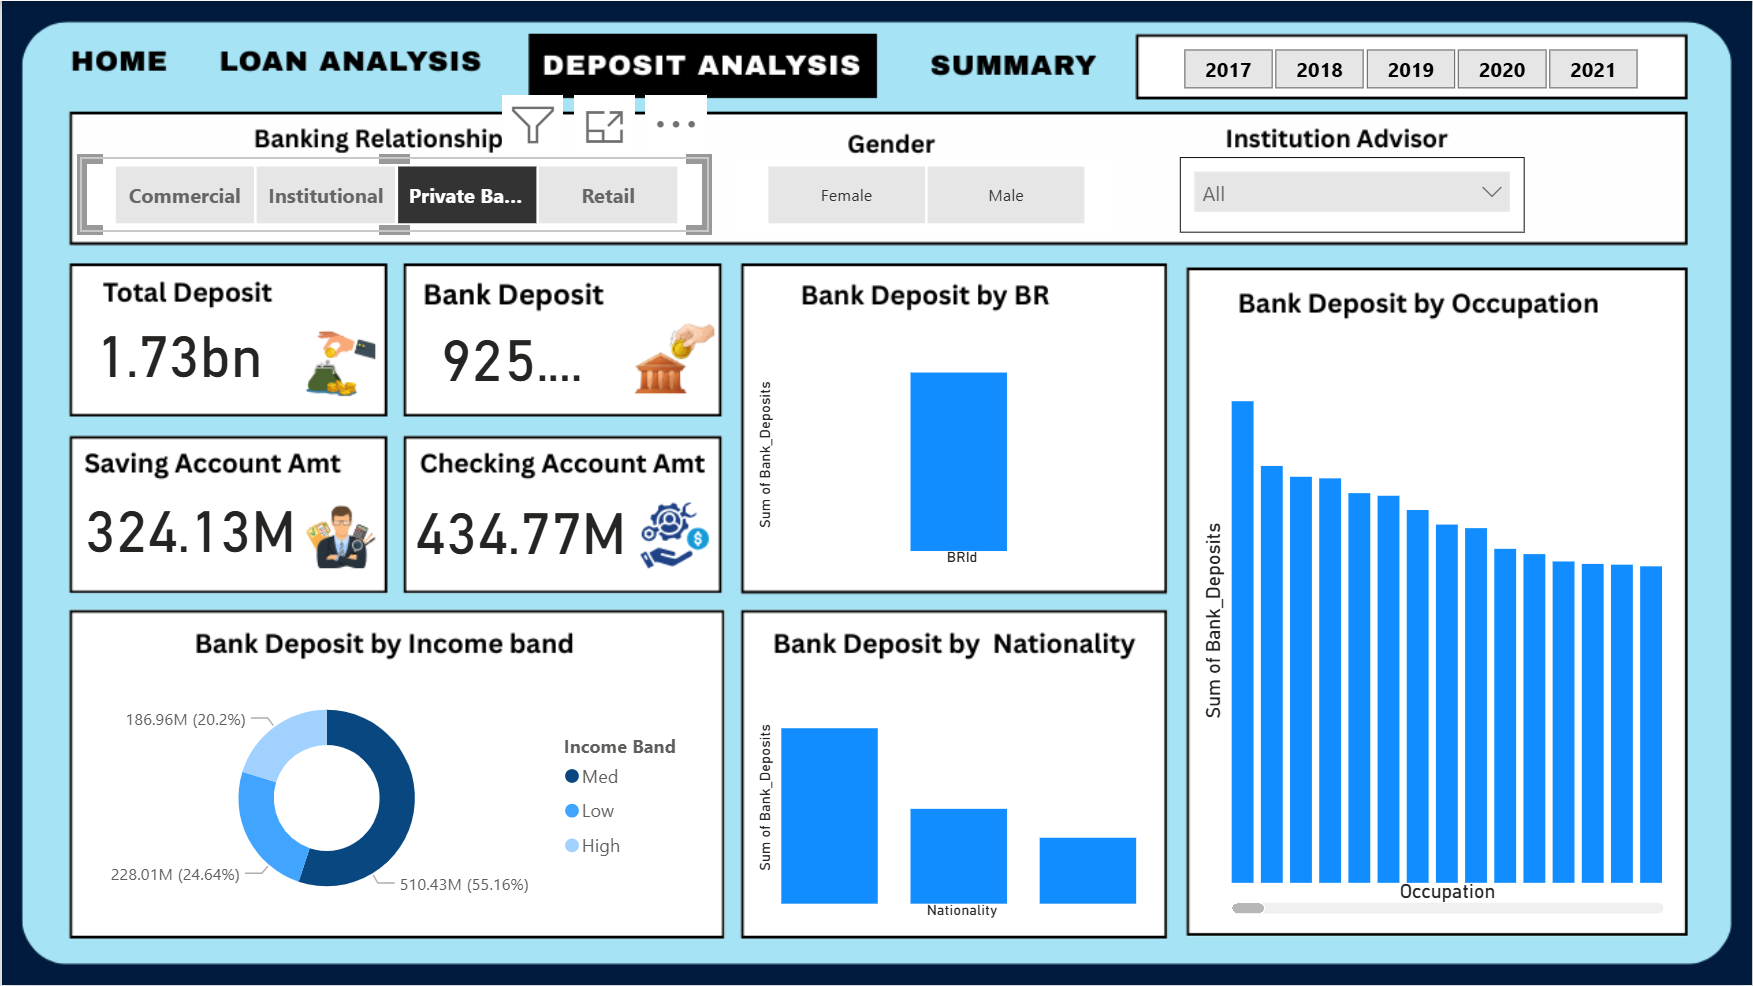

What the dashboard file says about the page in this screenshot:
{"tool":"powerbi","page":{"name":"Deposit Analysis","canvas":[1280,720],"ordinal":2},"visuals":[{"type":"slicer","fields":{"Values":["Banking1.Joined_Bank.Variation.Date Hierarchy.Year"]},"box":[838.8,27.7,381.8,35.7],"z":0},{"type":"actionButton","box":[34.3,22.5,100.4,38.3],"z":1000},{"type":"actionButton","box":[663.1,25.1,151.9,35.7],"z":3000},{"type":"card","fields":{"Values":["Banking1.Total Deposit"]},"box":[60.8,228.5,137.4,55.5],"z":4000},{"type":"card","fields":{"Values":["Sum(Banking1.Bank_Deposits)"]},"box":[305.1,229.8,136.1,56.8],"z":5000},{"type":"card","fields":{"Values":["Sum(Banking1.Saving_Accounts)"]},"box":[55.5,355.3,165.1,55.5],"z":6000},{"type":"card","fields":{"Values":["Sum(Banking1.Checking_Accounts)"]},"box":[297.2,356.7,165.1,55.5],"z":7000},{"type":"donutChart","fields":{"Category":["Banking1.Income Band"],"Y":["Sum(Banking1.Bank_Deposits)"]},"box":[59.4,494,457,177],"z":8000},{"type":"clusteredColumnChart","fields":{"Category":["Banking1.BRId"],"Y":["Sum(Banking1.Bank_Deposits)"]},"box":[546.9,247,291.9,170.4],"z":9000},{"type":"clusteredColumnChart","fields":{"Category":["Banking1.Nationality"],"Y":["Sum(Banking1.Bank_Deposits)"]},"box":[548.2,490.1,291.9,184.9],"z":10000},{"type":"clusteredColumnChart","fields":{"Category":["Banking1.Occupation"],"Y":["Sum(Banking1.Bank_Deposits)"]},"box":[873.1,247,347.4,425.3],"z":11000},{"type":"slicer","fields":{"Values":["Banking1.BRId"]},"box":[56.8,113.6,461,55.5],"z":12000},{"type":"slicer","fields":{"Values":["Banking1.GenderId"]},"box":[533.7,113.6,281.4,55.5],"z":13000},{"type":"slicer","fields":{"Values":["Banking1.IAId"]},"box":[861.3,113.6,252.3,55.5],"z":14000},{"type":"actionButton","box":[149.3,23.8,207.4,39.6],"z":15000}]}

Visuals, with their boxes in screenshot pixels (x1, y1, x2, y2), scaled from the page's 1280x720 canvas onto the 1753x986 screenshot:
slicer - Banking1.Joined_Bank.Variation.Date Hierarchy.Year: <region>1149, 38, 1672, 87</region>
actionButton: <region>47, 31, 184, 83</region>
actionButton: <region>908, 34, 1116, 83</region>
card - Banking1.Total Deposit: <region>83, 313, 271, 389</region>
card - Sum(Banking1.Bank_Deposits): <region>418, 315, 604, 392</region>
card - Sum(Banking1.Saving_Accounts): <region>76, 487, 302, 563</region>
card - Sum(Banking1.Checking_Accounts): <region>407, 488, 633, 564</region>
donutChart - Banking1.Income Band x Sum(Banking1.Bank_Deposits): <region>81, 677, 707, 919</region>
clusteredColumnChart - Banking1.BRId x Sum(Banking1.Bank_Deposits): <region>749, 338, 1149, 572</region>
clusteredColumnChart - Banking1.Nationality x Sum(Banking1.Bank_Deposits): <region>751, 671, 1151, 924</region>
clusteredColumnChart - Banking1.Occupation x Sum(Banking1.Bank_Deposits): <region>1196, 338, 1672, 921</region>
slicer - Banking1.BRId: <region>78, 156, 709, 232</region>
slicer - Banking1.GenderId: <region>731, 156, 1116, 232</region>
slicer - Banking1.IAId: <region>1180, 156, 1525, 232</region>
actionButton: <region>204, 33, 489, 87</region>
